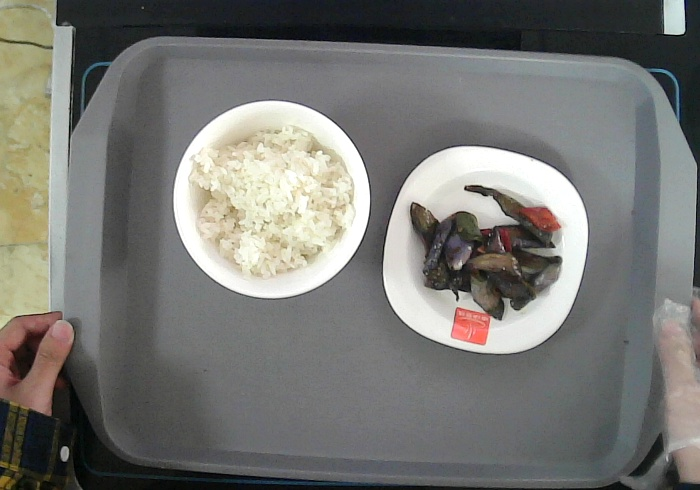SHKJ-Bai_Se_Si_Fang_Cai_Die: (383, 145, 589, 354)
SHKJ-Fan_Wan: (172, 100, 371, 300)
